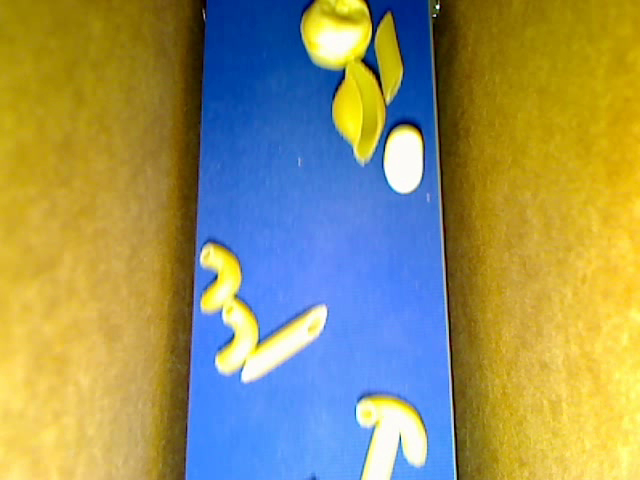elbow: (355, 395, 428, 467), (215, 296, 258, 376), (200, 242, 241, 313)
penne: (239, 302, 328, 383), (360, 412, 401, 479), (374, 11, 403, 105)
shell: (331, 58, 386, 165)
tortellini: (301, 1, 371, 70)
